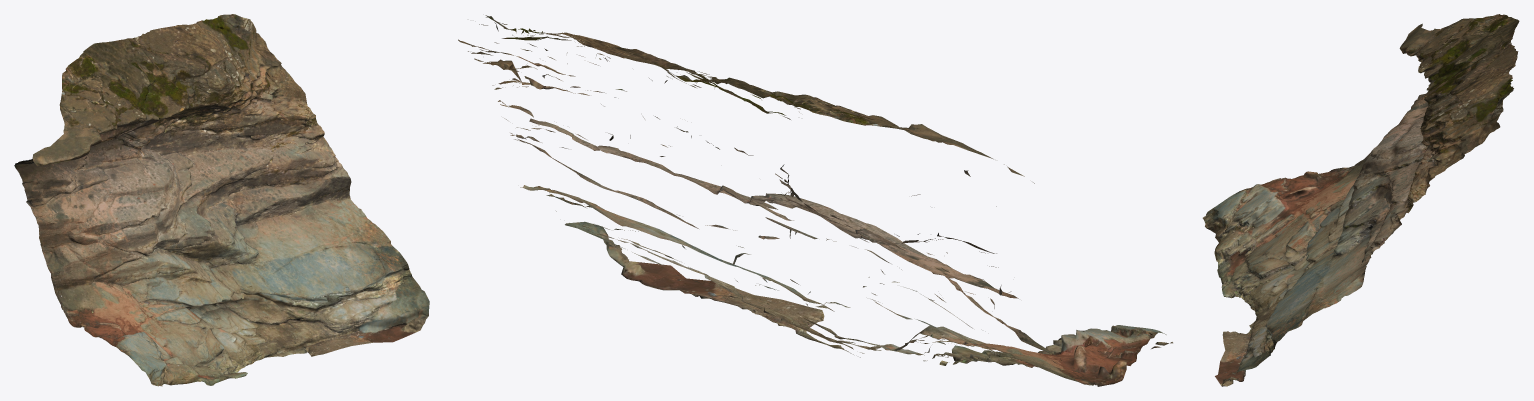
3 renders of one model, left to right at view 1: azimuth 30°, elevation 25°; view 2: azimuth 150°, elevation 25°; view 3: azimuth 270°, elevation 25°, orthographic. The views are drawn at different scales.
Visible parts, largest first — view 1: rock_face_01_lod0; view 2: rock_face_01_lod0; view 3: rock_face_01_lod0.
Part boxes in pixels (bbox=[...]): rock_face_01_lod0: bbox=[14, 14, 429, 386]; rock_face_01_lod0: bbox=[458, 15, 1172, 386]; rock_face_01_lod0: bbox=[1202, 14, 1519, 386].
Bounding box in the file's own units: 4.95 × 3.56 × 3.83.
1 material, 1 textured.
